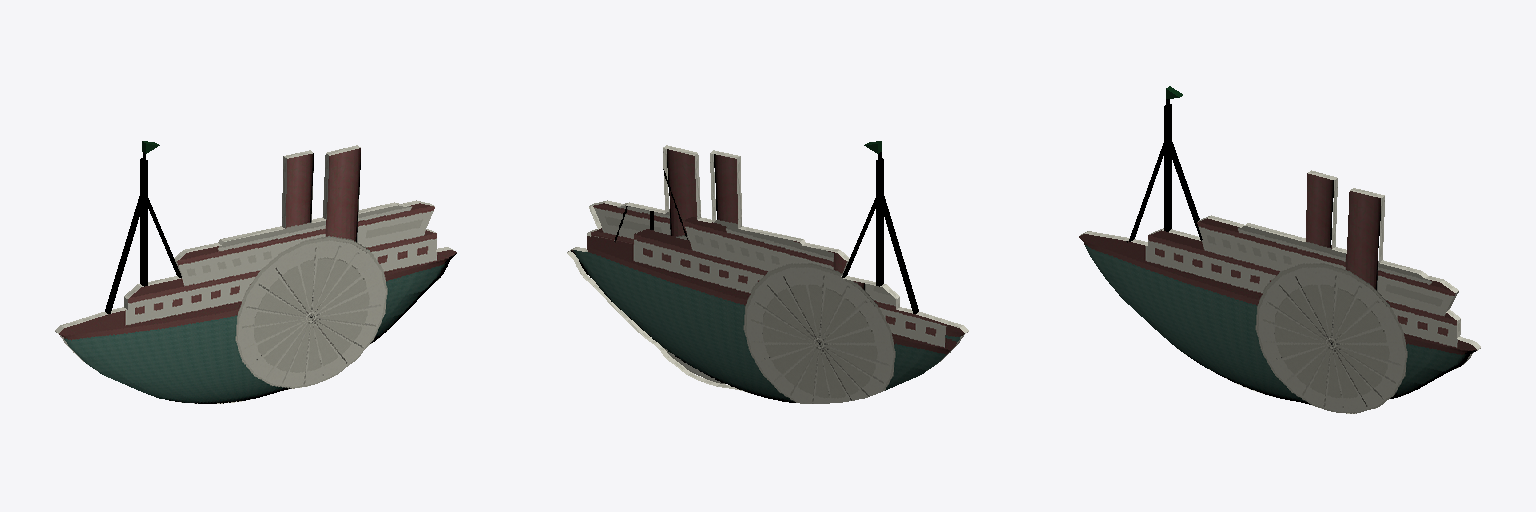
3 views of the same model, side by side, from view 1: azimuth 30°, elevation 25°; view 2: azimuth 150°, elevation 25°; view 3: azimuth 330°, elevation 25° (orthographic).
Visible parts, largest first — view 1: newBoat:polySurface2group2 group; view 2: newBoat:polySurface2group2 group; view 3: newBoat:polySurface2group2 group.
Part boxes in pixels (bbox=[...]): newBoat:polySurface2group2 group: bbox=[55, 141, 456, 403]; newBoat:polySurface2group2 group: bbox=[567, 141, 968, 403]; newBoat:polySurface2group2 group: bbox=[1079, 86, 1480, 413].
Bounding box in the file's own units: 67.13 × 45.43 × 1.15.
3 materials, 1 textured.